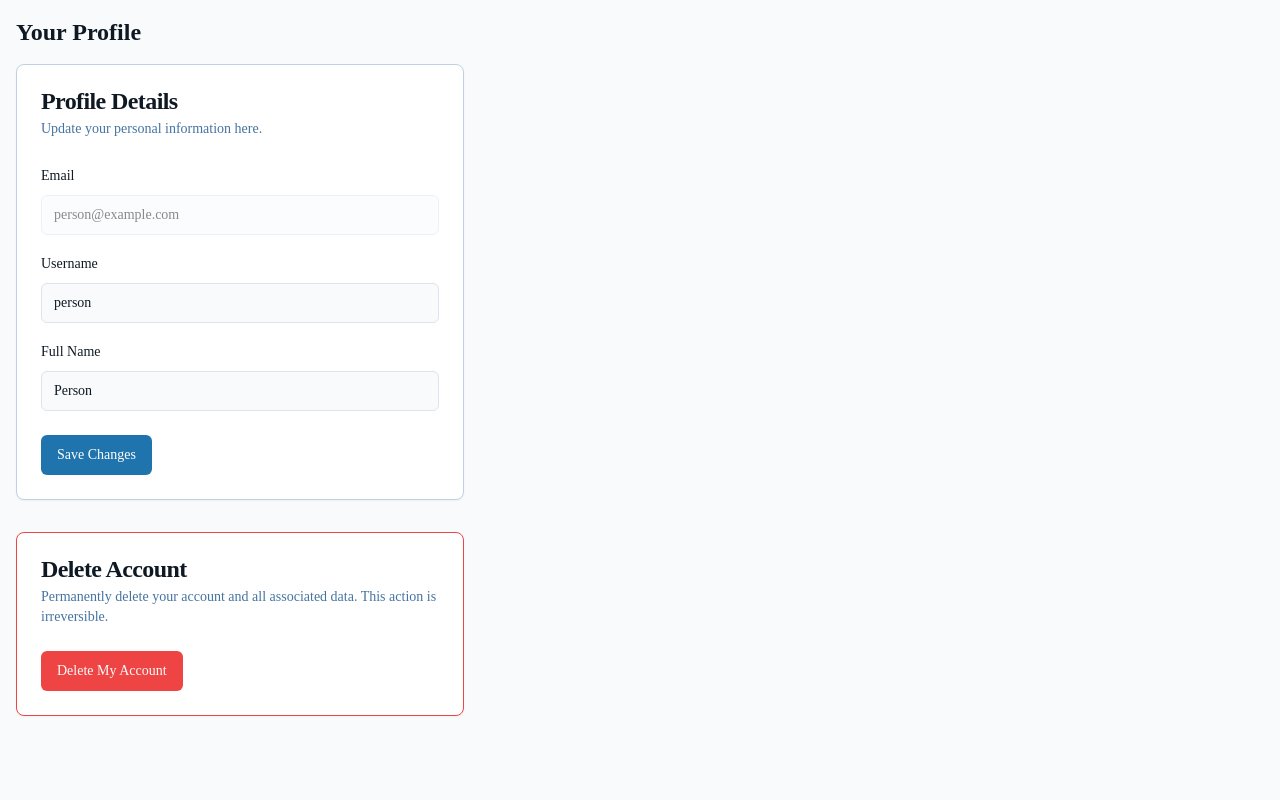
it: Profile account deletion › shows an actionable error when the function rejects the session
Click the button "Delete My Account".
click(112, 671)  # box [41,651,183,691]
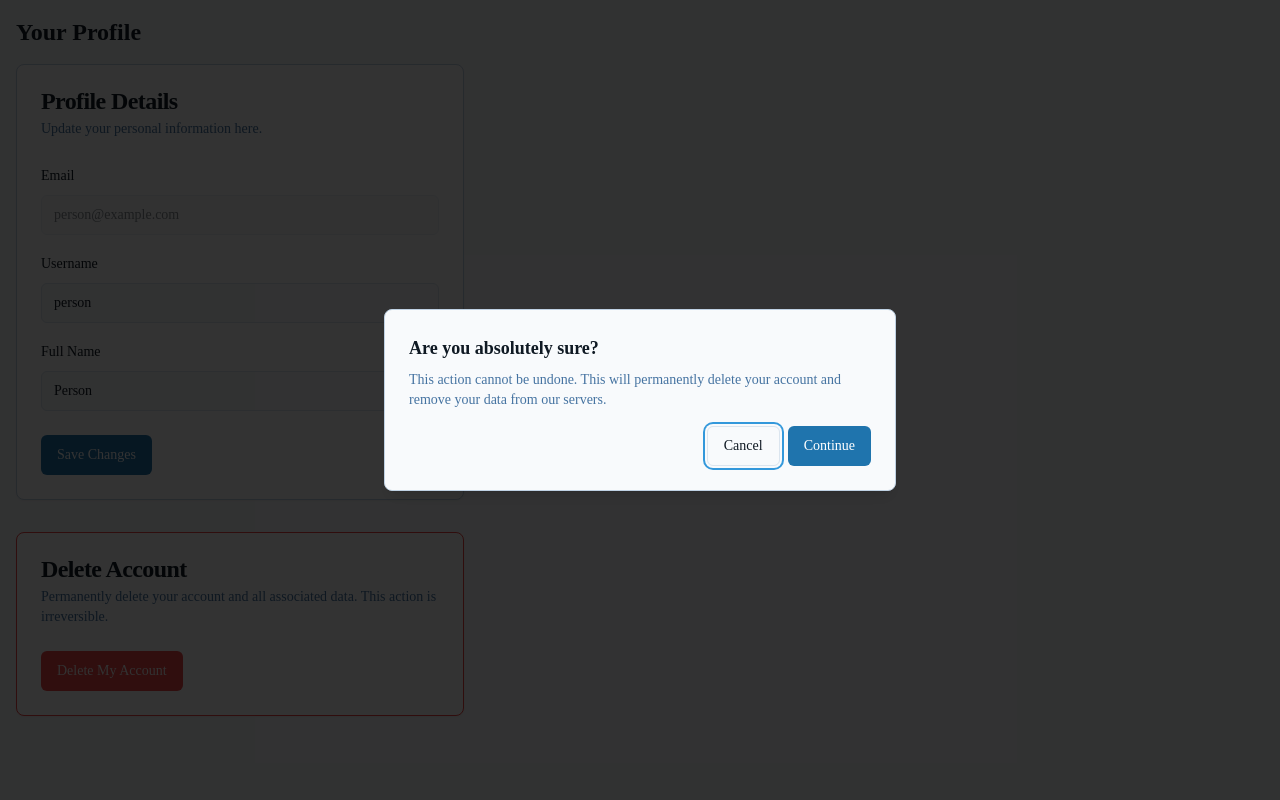
Click the button "Continue".
click(829, 446)  # box [788,426,871,466]
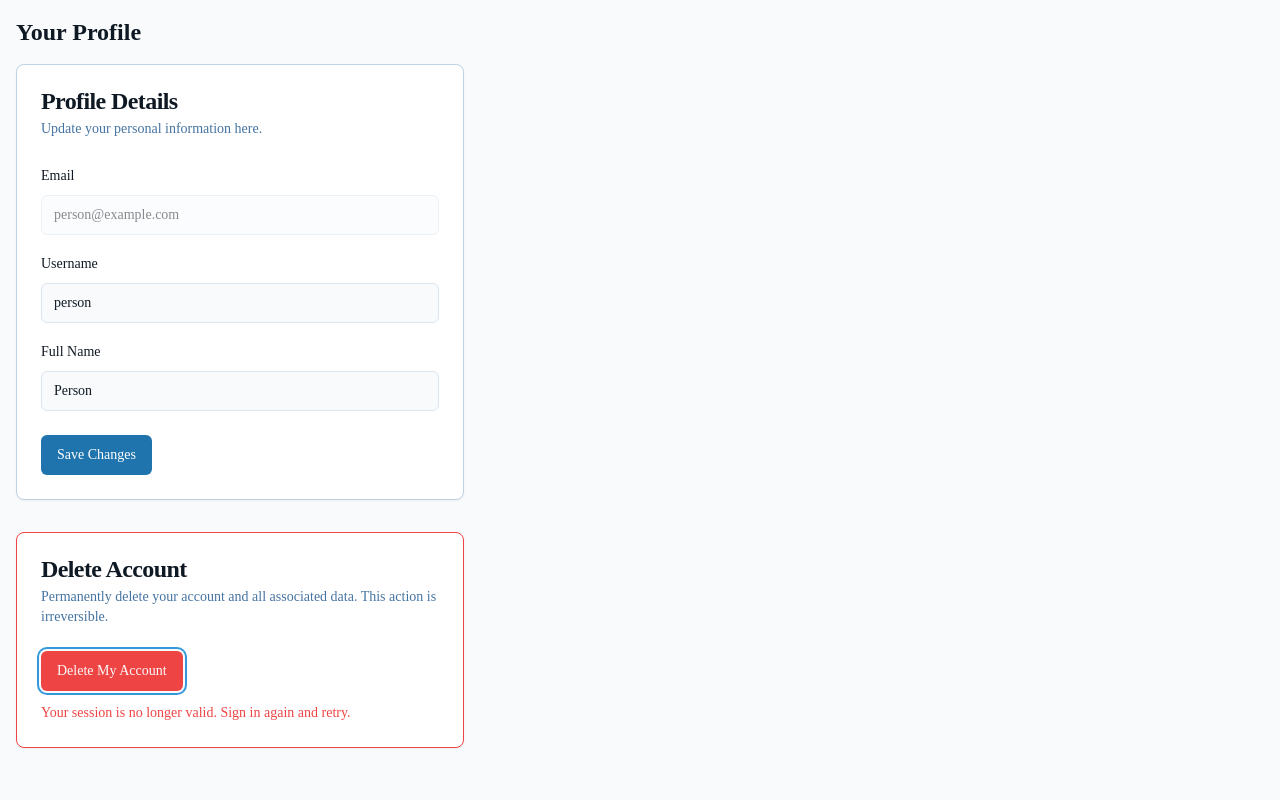
expect the message reads "Your session is no longer valid. Sign in again and retry.": met, box [41,705,350,720]
